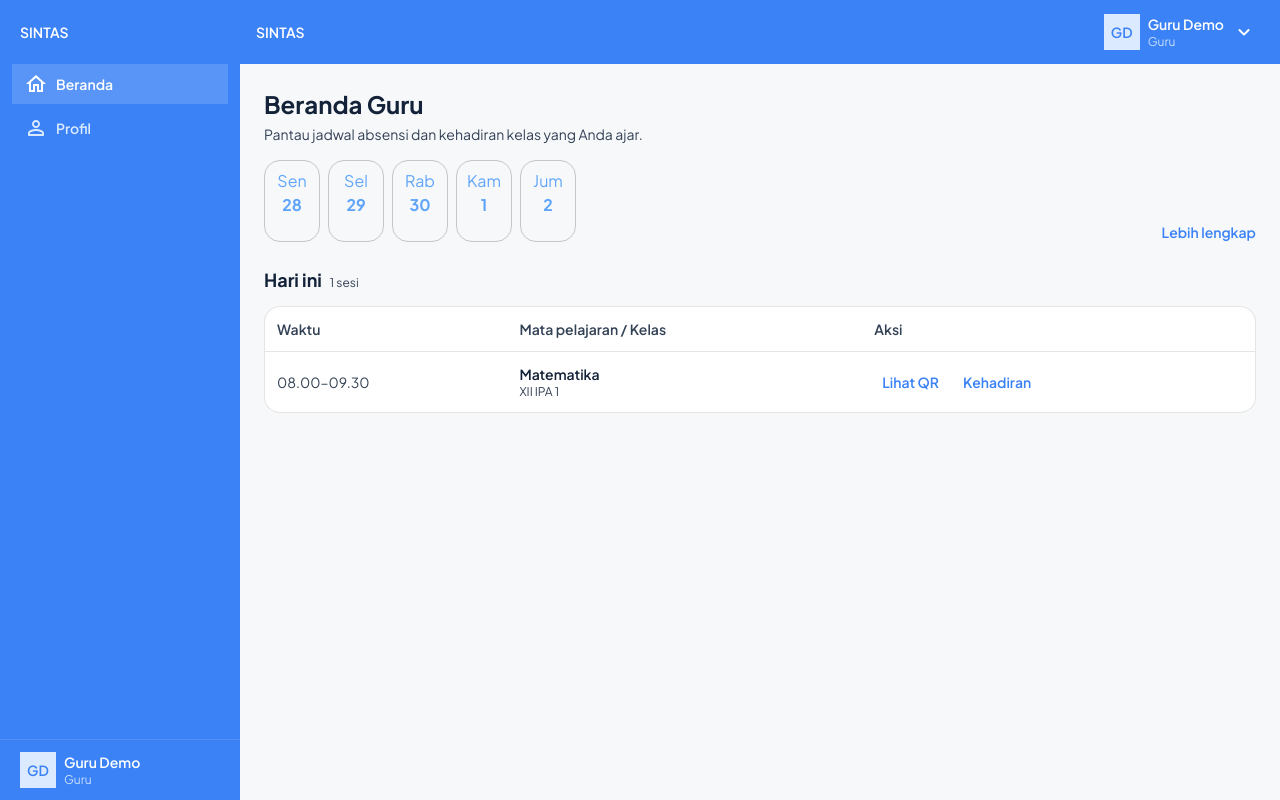
Test case: beranda guru › menampilkan empty state pada tanggal tanpa sesi
This screenshot has width=1280, height=800.
Click the button with aria-label "Senin, 28 September 2026": (292, 201) [264,160,320,242]
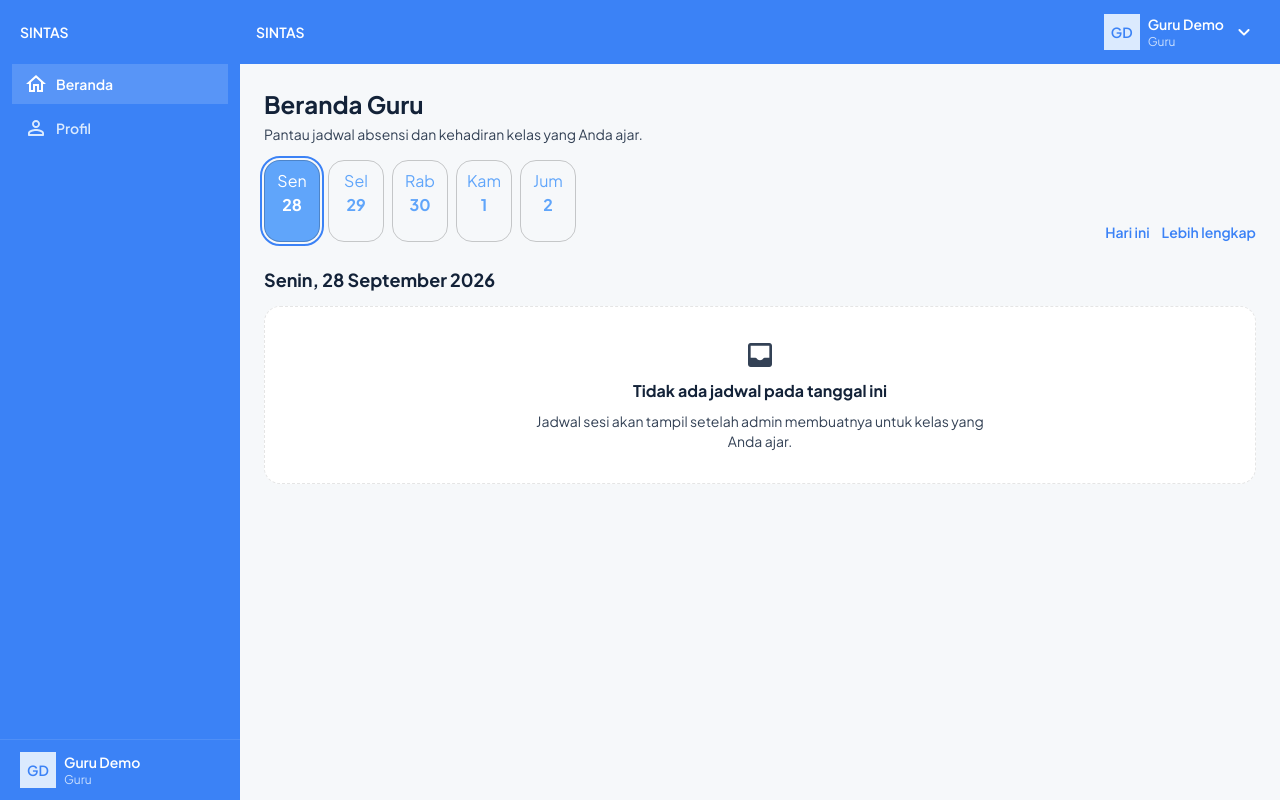
Now the heading "Tidak ada jadwal pada tanggal ini" is shown, box [633,379,887,403]
